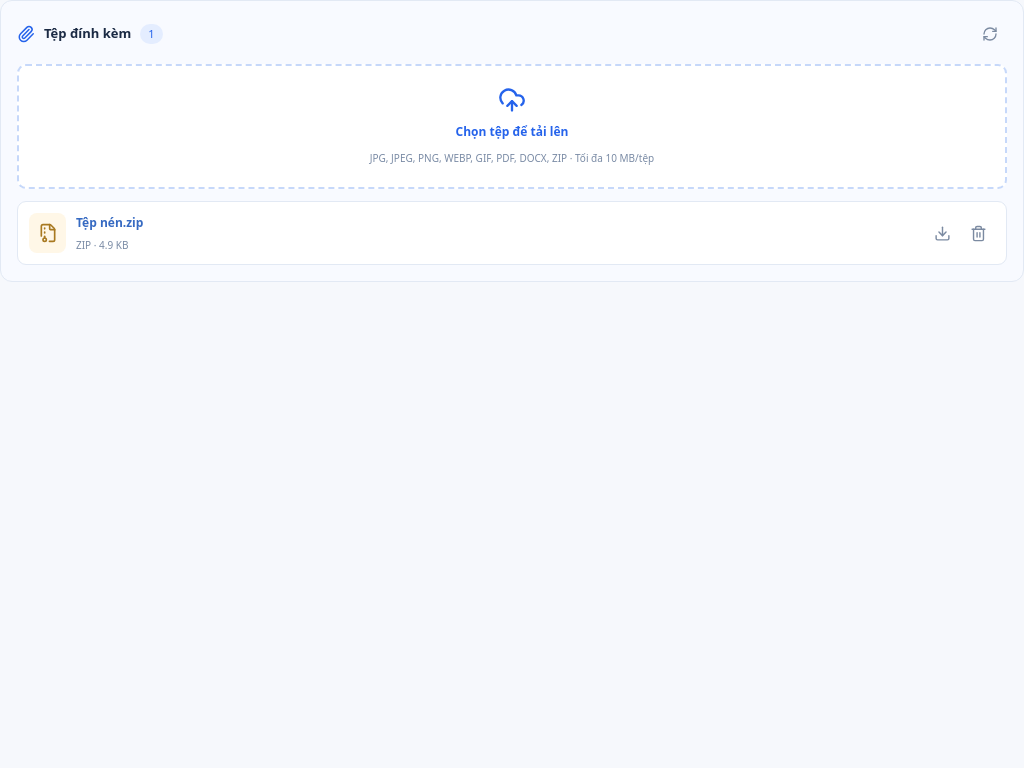
Test: Task attachment management › retains the file and confirmation on deletion failure and sends an error toast
Expected: the file field named "Chọn tệp đính kèm" is enabled, [0,85,1023,127]
Step 1. Click the button named "Xóa Tệp nén.zip" → (978, 233), box [961,216,995,250]
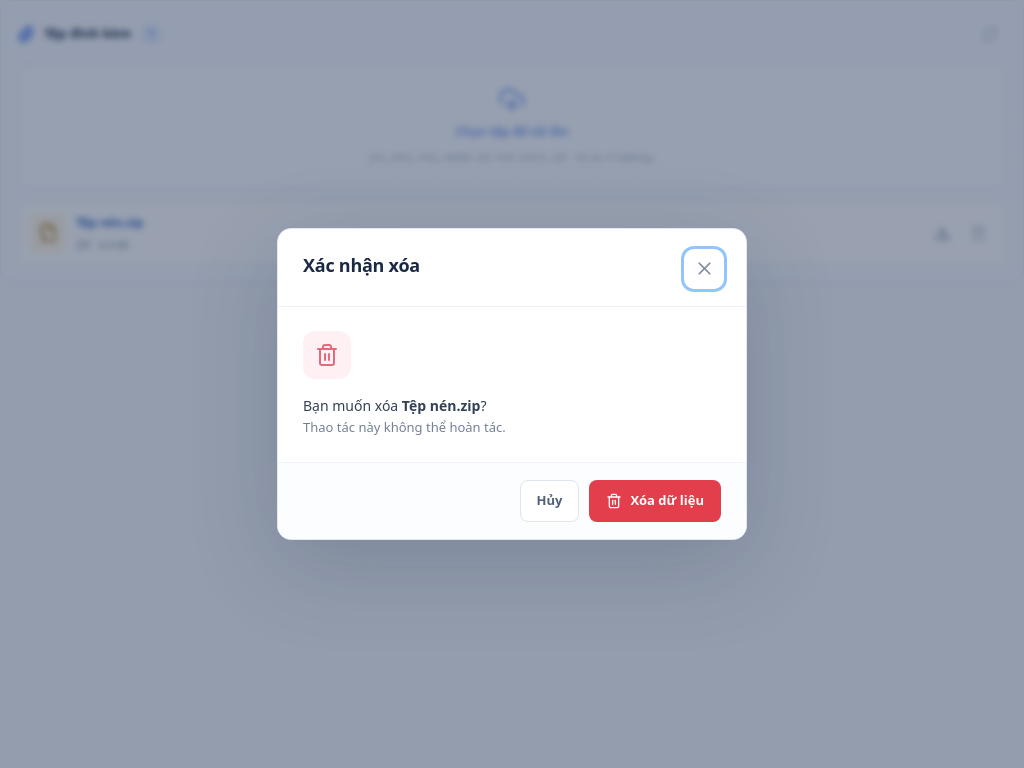
Step 2. Click the button "Xóa dữ liệu" → (655, 501), box [589,480,721,522]
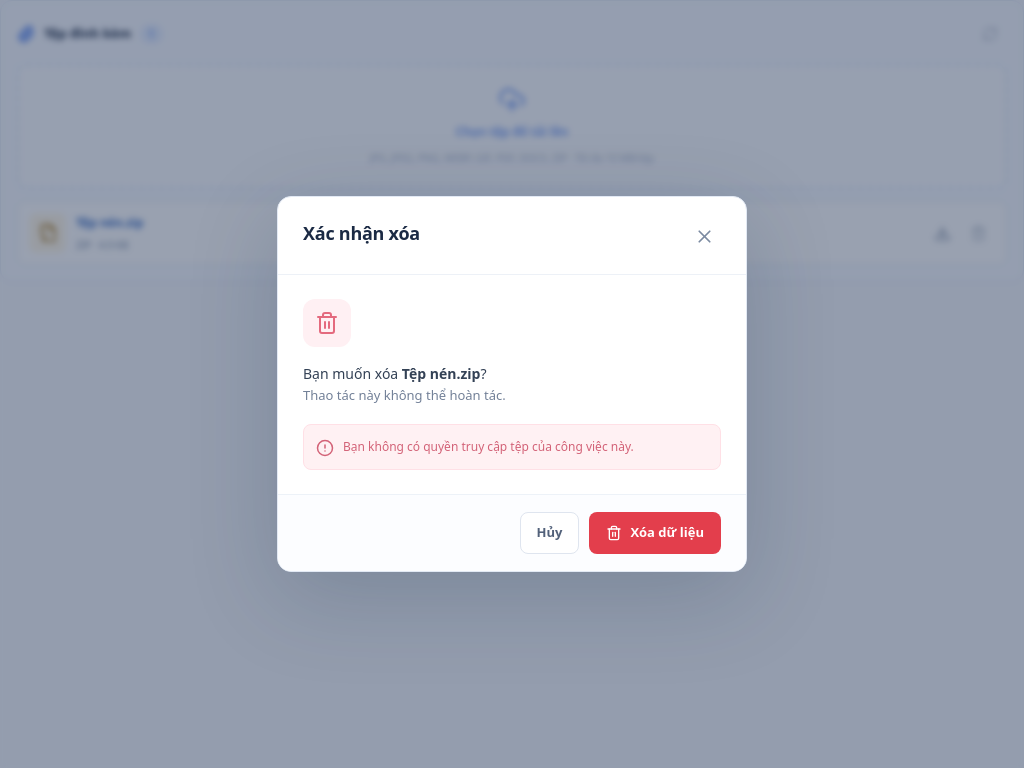
Now the message shows "không có quyền", box [343,438,634,455]
